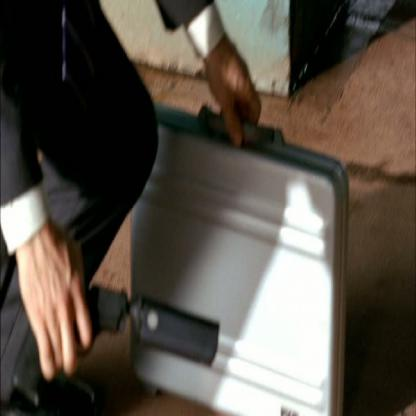Gun: (8, 284, 222, 406)
